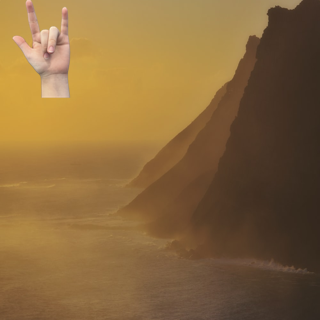ILY: (9, 1, 75, 81)
